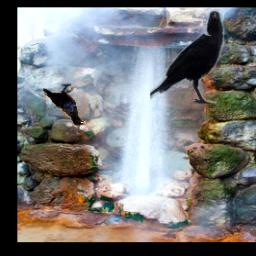Crow: (150, 10, 225, 105), (43, 83, 86, 126)
